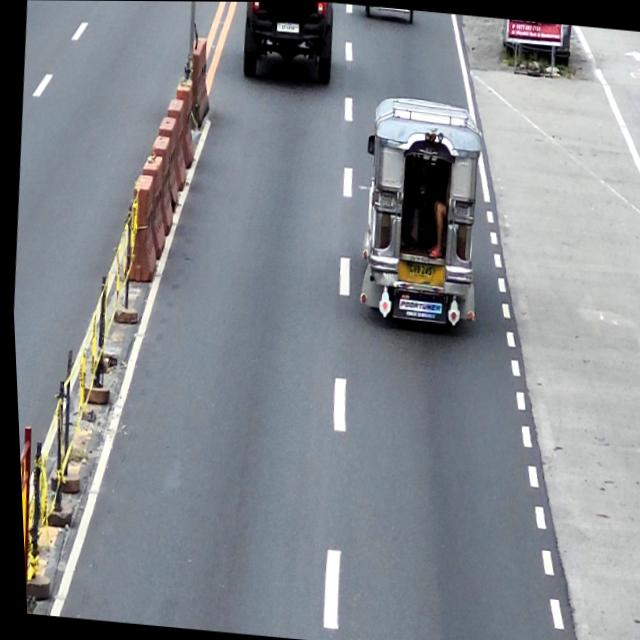Car: (238, 1, 337, 86)
Jeep: (348, 92, 492, 337)
License-Plate: (405, 260, 430, 278), (275, 21, 300, 33)
